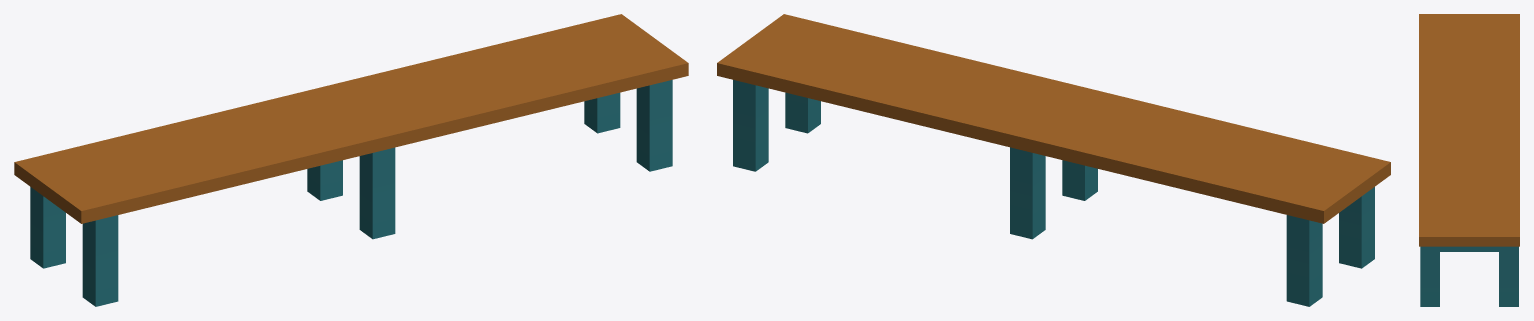
Rendered from Bench_1_E_7.fbx.
3 renders of one model, left to right at view 1: azimuth 30°, elevation 25°; view 2: azimuth 150°, elevation 25°; view 3: azimuth 270°, elevation 25°, orthographic. The views are drawn at different scales.
Visible parts, largest first — view 1: Bench_1_E_7; view 2: Bench_1_E_7; view 3: Bench_1_E_7.
Boxes of the visible parts, <box> form: Bench_1_E_7: <box>14,14,688,306</box>; Bench_1_E_7: <box>717,14,1390,306</box>; Bench_1_E_7: <box>1419,14,1519,306</box>.
Size of the model in its own units: 213 by 33.54 by 40.68.
